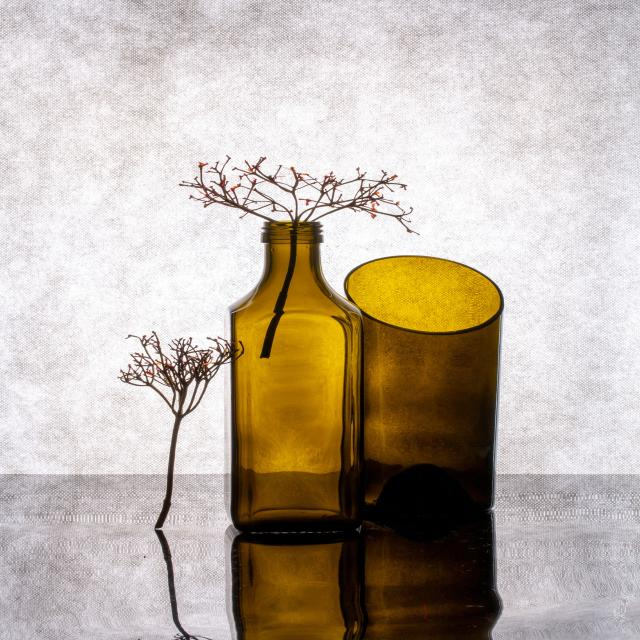Bottle: (230, 222, 362, 531)
